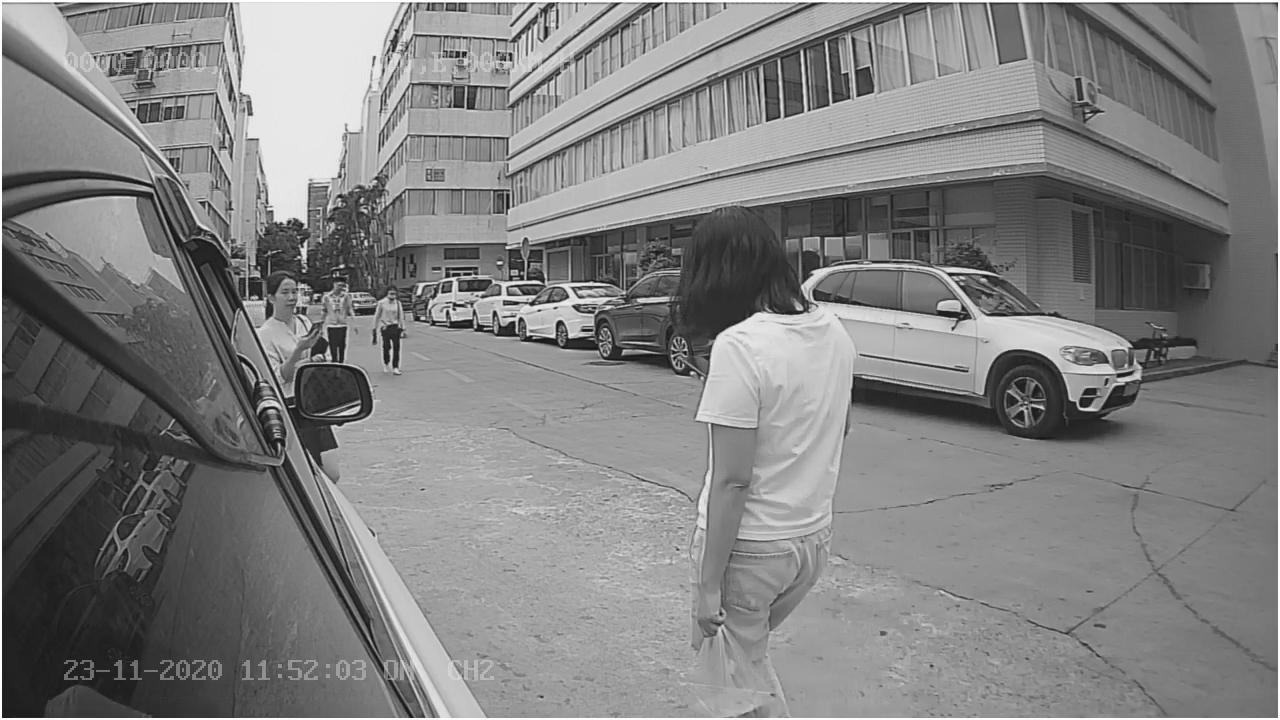person: (658, 195, 872, 549)
